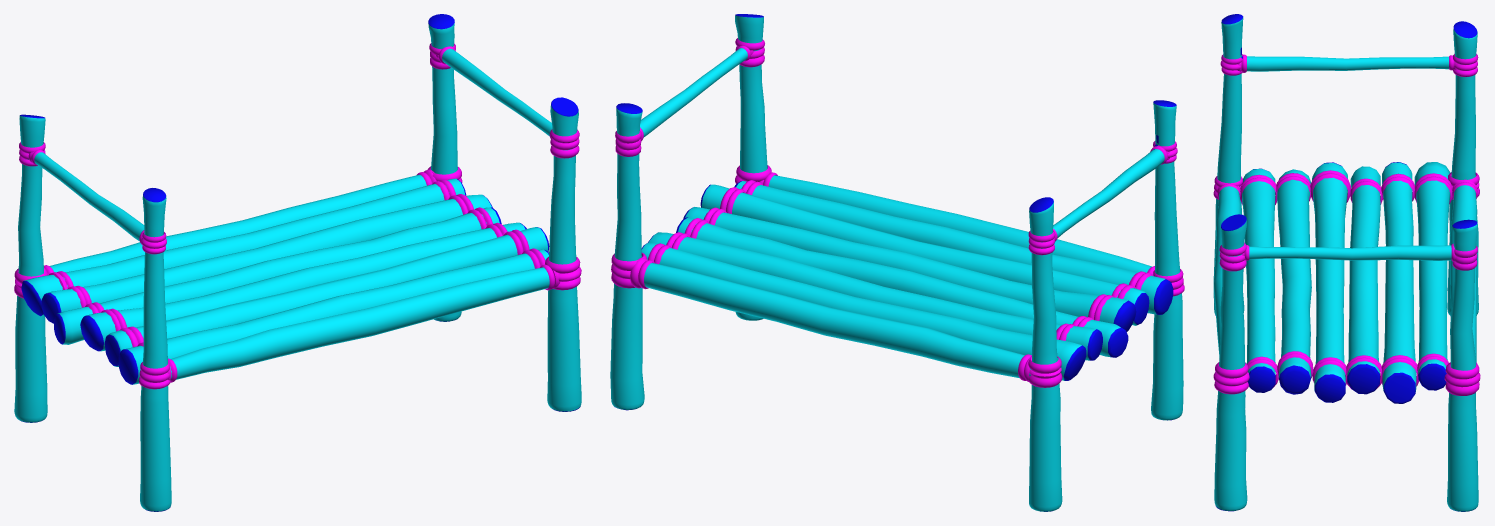
Rendered from SM_Pont_v2_01.FBX.
The picture shows the model from 3 angles, left to right: view 1: azimuth 30°, elevation 25°; view 2: azimuth 150°, elevation 25°; view 3: azimuth 270°, elevation 25°; orthographic projection. The views are drawn at different scales.
Visible parts, largest first — view 1: Pont_2; view 2: Pont_2; view 3: Pont_2.
Boxes of the visible parts, left/top/right/bottom form: Pont_2: left=14, top=14, right=581, bottom=511; Pont_2: left=610, top=14, right=1184, bottom=511; Pont_2: left=1213, top=14, right=1480, bottom=511.
Size of the model in its own units: 595 by 390 by 317.
